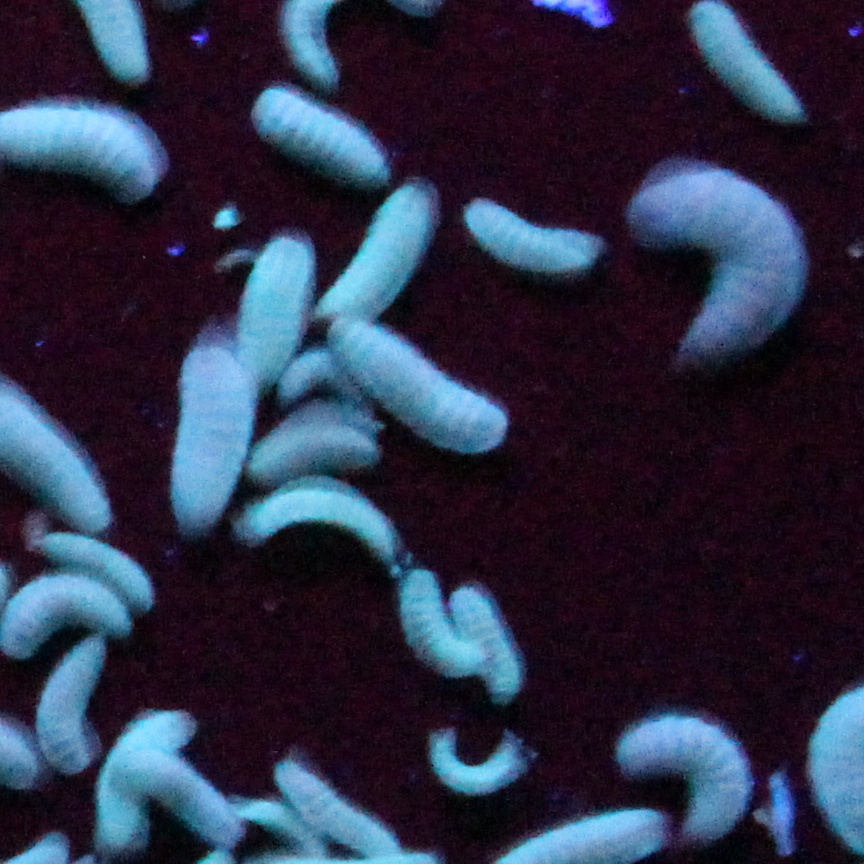larve: (634, 171, 798, 365), (339, 322, 500, 445), (327, 188, 439, 317), (626, 714, 746, 829), (250, 87, 387, 183), (99, 710, 175, 854), (247, 487, 393, 559), (279, 763, 400, 849), (468, 194, 600, 272), (183, 347, 240, 525), (2, 584, 127, 661), (139, 748, 238, 839), (254, 411, 368, 477), (457, 590, 524, 702), (44, 644, 100, 777), (47, 527, 153, 596), (430, 729, 535, 796), (244, 238, 291, 375), (403, 569, 462, 677), (278, 353, 346, 404)
